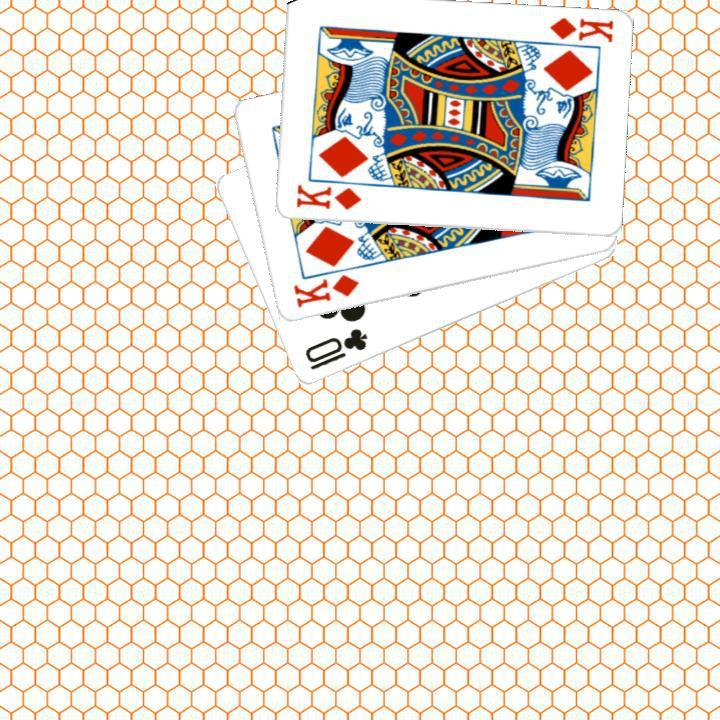10: (300, 324, 370, 373)
K: (288, 270, 361, 310), (291, 180, 363, 212), (545, 13, 615, 45)
